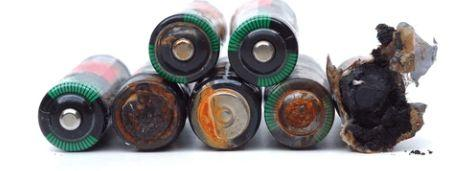battery: (334, 23, 436, 150), (37, 55, 129, 151), (108, 62, 191, 150), (260, 54, 334, 148), (187, 61, 264, 149), (148, 1, 225, 85), (229, 1, 300, 88)
